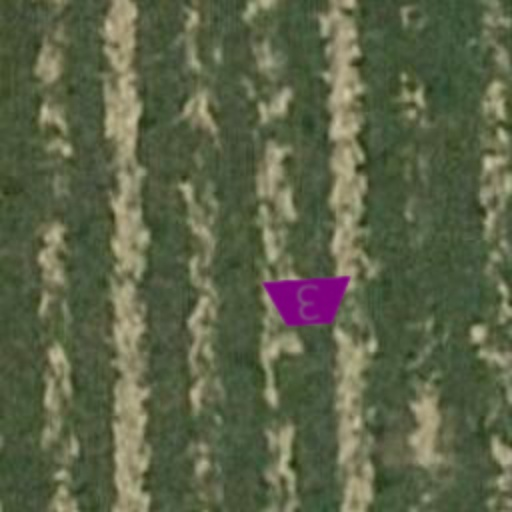trapezoid: (258, 252, 358, 352)
